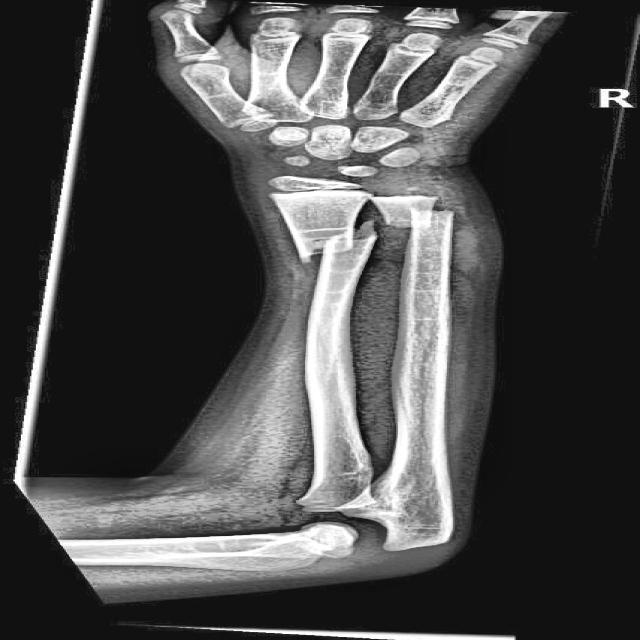fracture: (312, 227, 376, 254), (399, 206, 459, 224)
